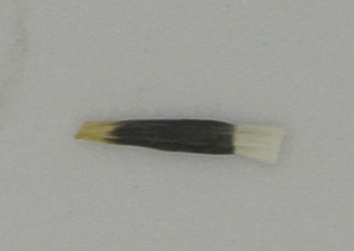เมล็ดดีติดกัน: (74, 117, 287, 167)
